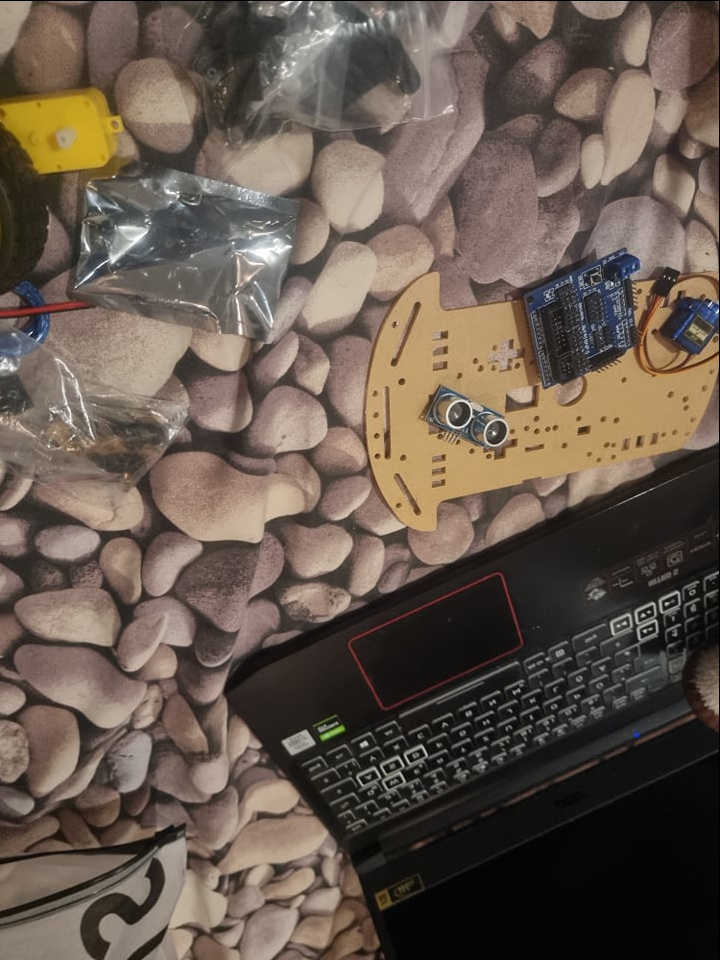5V EXPANSION: (523, 242, 650, 390)
SENSOR: (420, 384, 519, 451)
